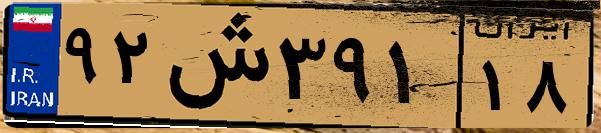1: (385, 28, 445, 110), (475, 38, 525, 113)
2: (110, 28, 158, 98)
3: (270, 28, 330, 110)
8: (525, 38, 570, 115)
9: (330, 28, 385, 110), (57, 26, 110, 100)
ش: (158, 12, 270, 120)
